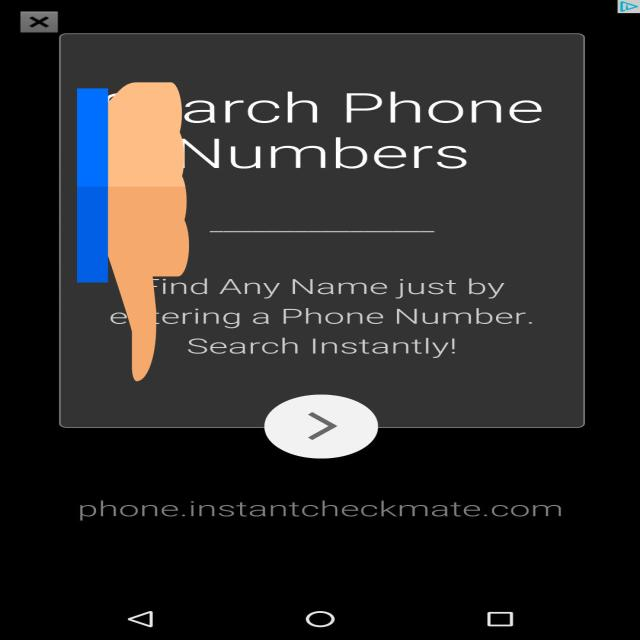obstruction: (77, 75, 189, 389)
